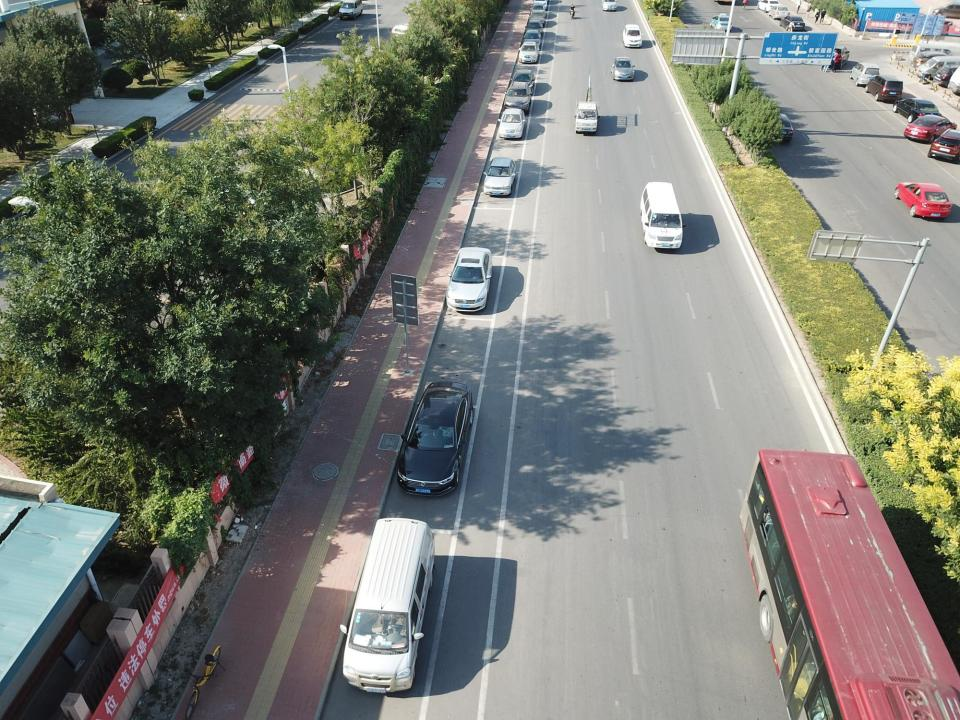bus: (736, 449, 960, 719)
car: (396, 379, 474, 498), (446, 246, 492, 312), (894, 181, 952, 219), (904, 114, 957, 144), (892, 98, 942, 124), (483, 157, 516, 196), (927, 128, 960, 165), (503, 81, 533, 115), (763, 112, 794, 142), (911, 51, 956, 71), (497, 108, 526, 138), (933, 64, 960, 88), (823, 46, 850, 69), (611, 56, 635, 81), (511, 69, 535, 92), (622, 24, 644, 48), (518, 41, 540, 64), (932, 2, 960, 18), (710, 13, 732, 32), (779, 15, 805, 31), (522, 30, 542, 48), (768, 5, 790, 21), (756, 0, 781, 13), (528, 10, 546, 28), (524, 20, 544, 36), (529, 2, 546, 17), (601, 0, 618, 12), (533, 0, 549, 10)
truck: (575, 99, 600, 134)
van: (339, 517, 436, 695), (640, 181, 687, 250), (864, 74, 903, 103), (916, 56, 960, 80), (909, 44, 955, 65), (849, 62, 881, 88), (390, 24, 427, 44), (338, 0, 363, 20)
